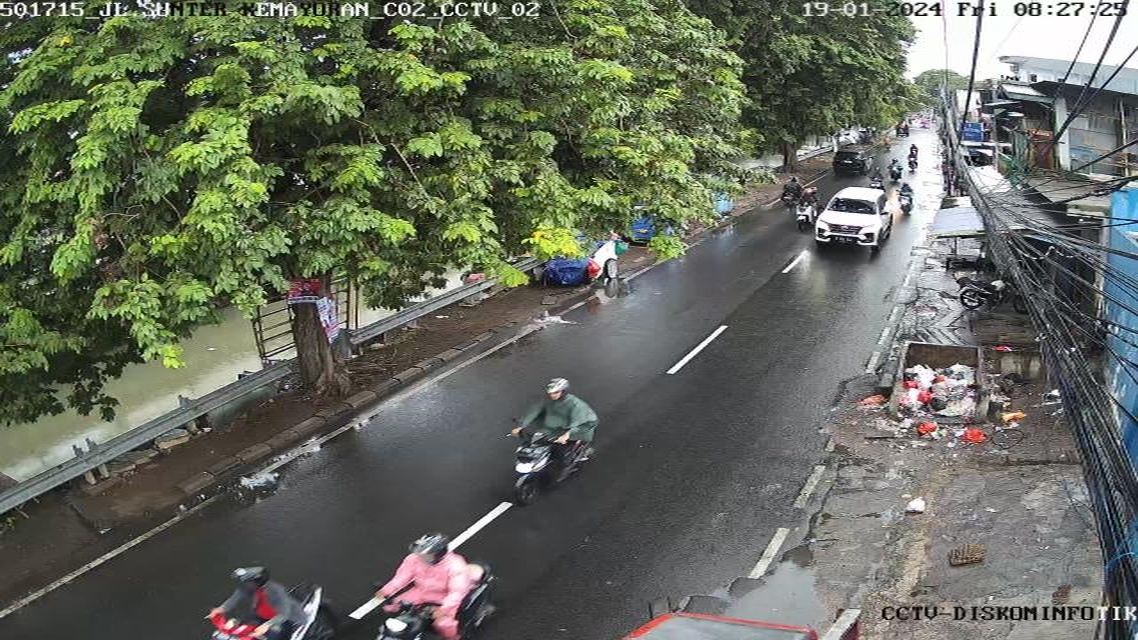Gerobak: (541, 241, 626, 286)
